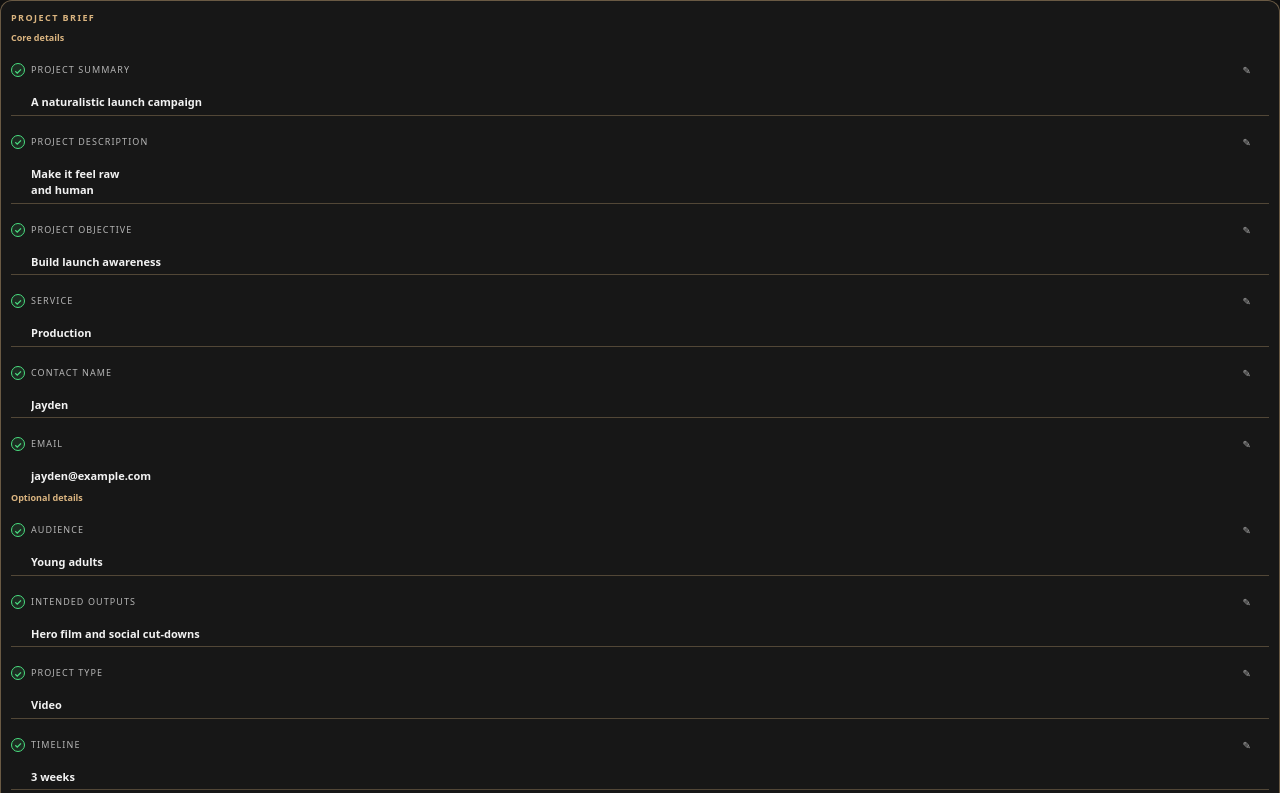
Test case: ProjectBriefCard › service row uses a free-text editor (no <select>)
The width and height of the screenshot is (1280, 793).
Click the button named "edit service" at (1247,301), box left=1225, top=279, right=1269, bottom=323
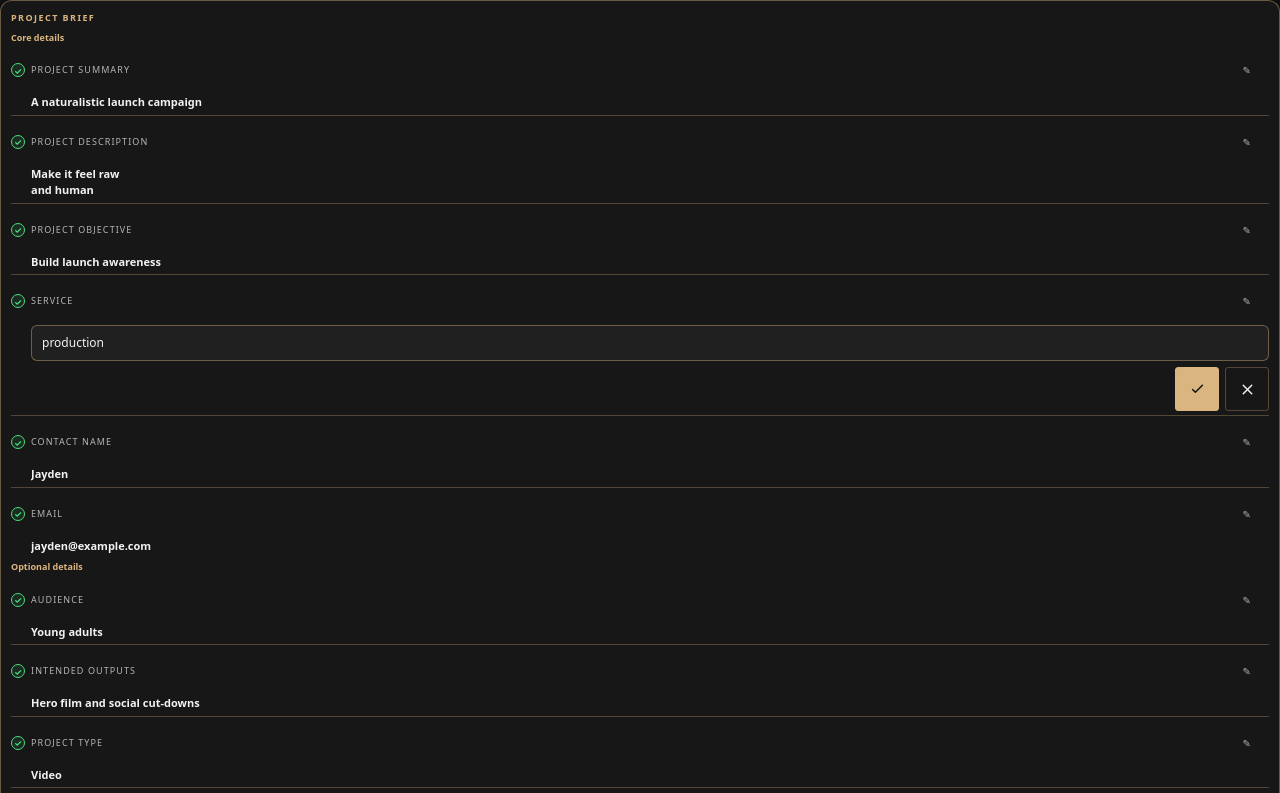
Result: the field is shown at left=31, top=325, right=1269, bottom=361
